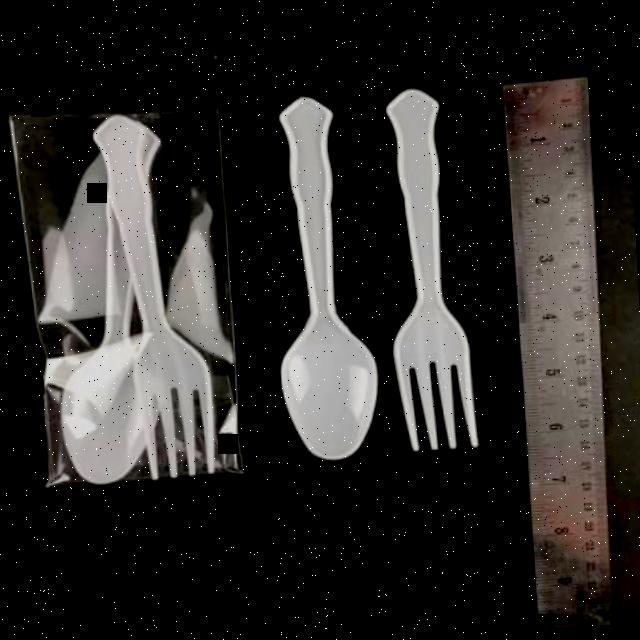plastic_spoon: (273, 88, 482, 460), (40, 110, 223, 487)
